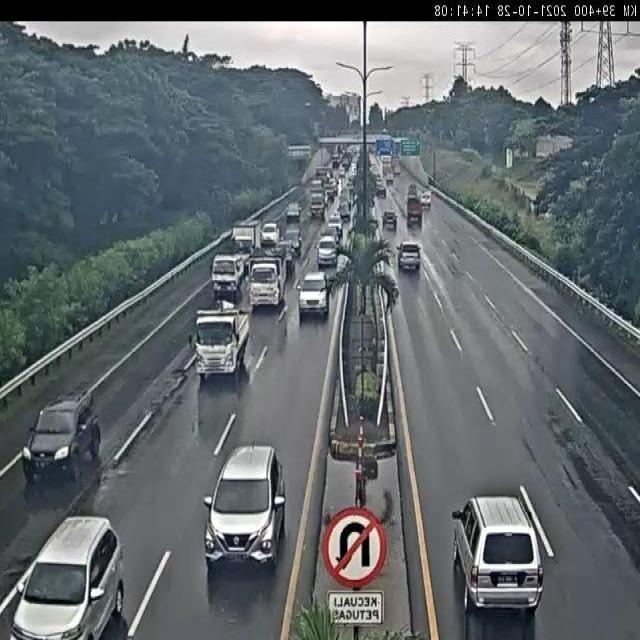Car: (10, 515, 124, 638), (448, 494, 544, 617), (202, 443, 286, 570), (22, 387, 100, 484), (297, 270, 331, 319), (397, 240, 422, 272), (317, 235, 338, 269), (284, 226, 303, 258), (260, 222, 280, 247), (382, 210, 397, 231)
Truck: (192, 301, 252, 380), (247, 248, 287, 310), (210, 252, 250, 305), (231, 220, 262, 266)
